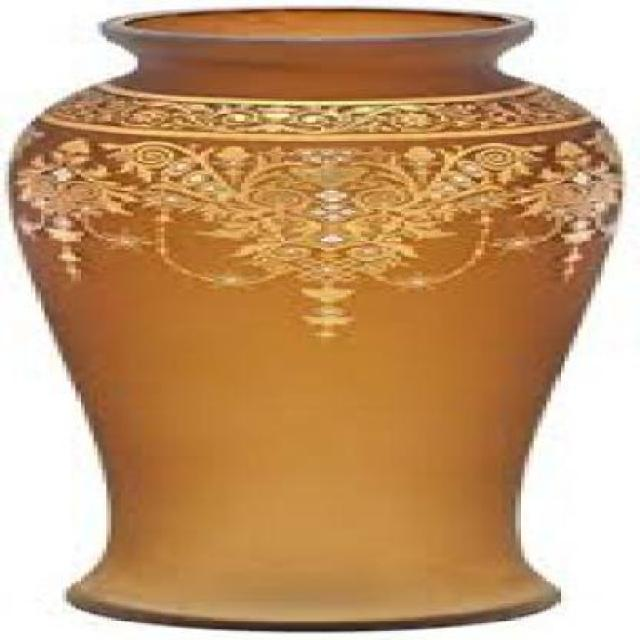kaca: (9, 3, 614, 629)
